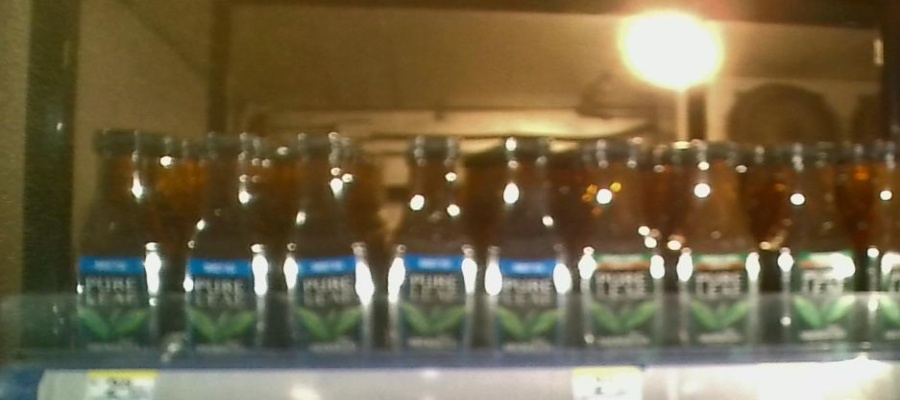bottle: (275, 126, 377, 360), (382, 125, 482, 362), (176, 126, 271, 366), (488, 124, 579, 369), (581, 130, 672, 369), (79, 124, 171, 359), (766, 134, 860, 361), (675, 129, 765, 361)
